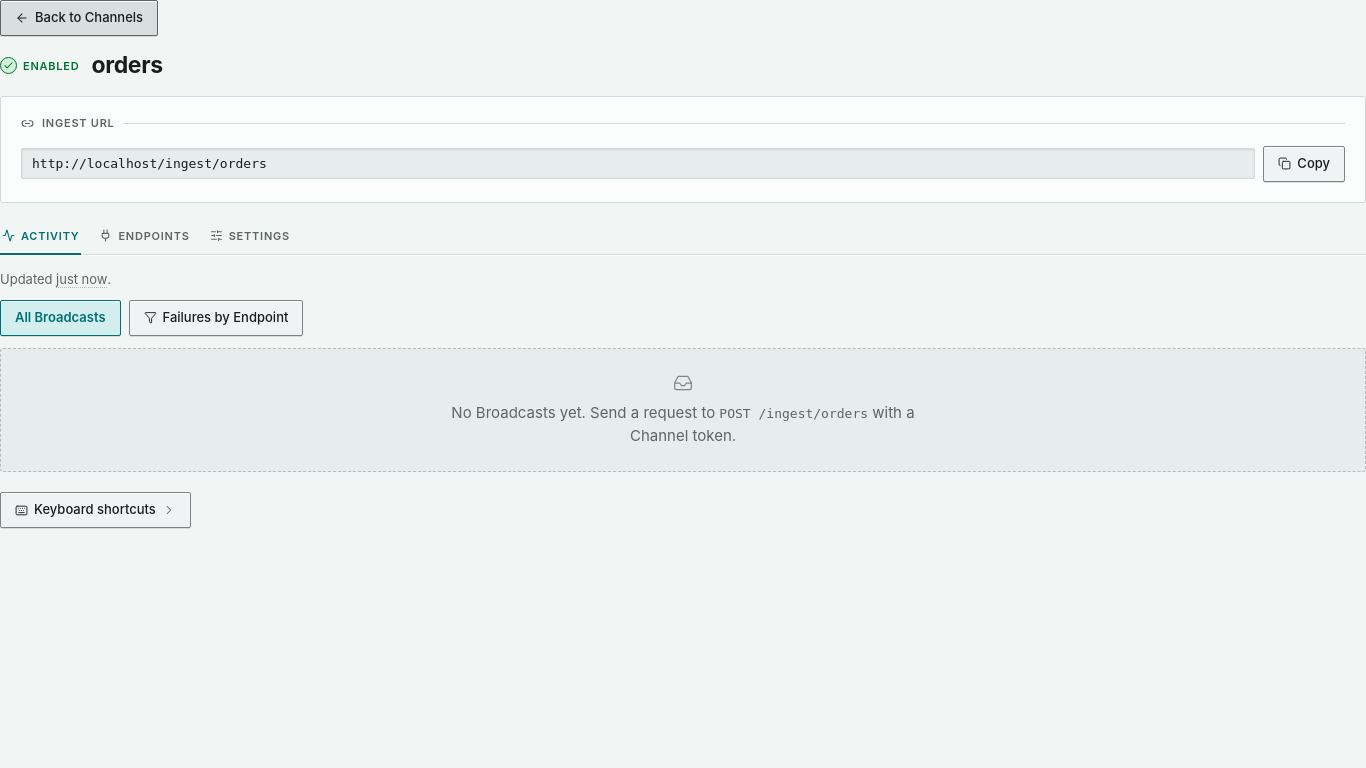
Ingest URL visibility (issue #47) › slug rename warning in Settings › shows the future URL and a breakage warning once the slug is edited
Click the link "Settings" at (250, 236), box [210, 229, 290, 243]
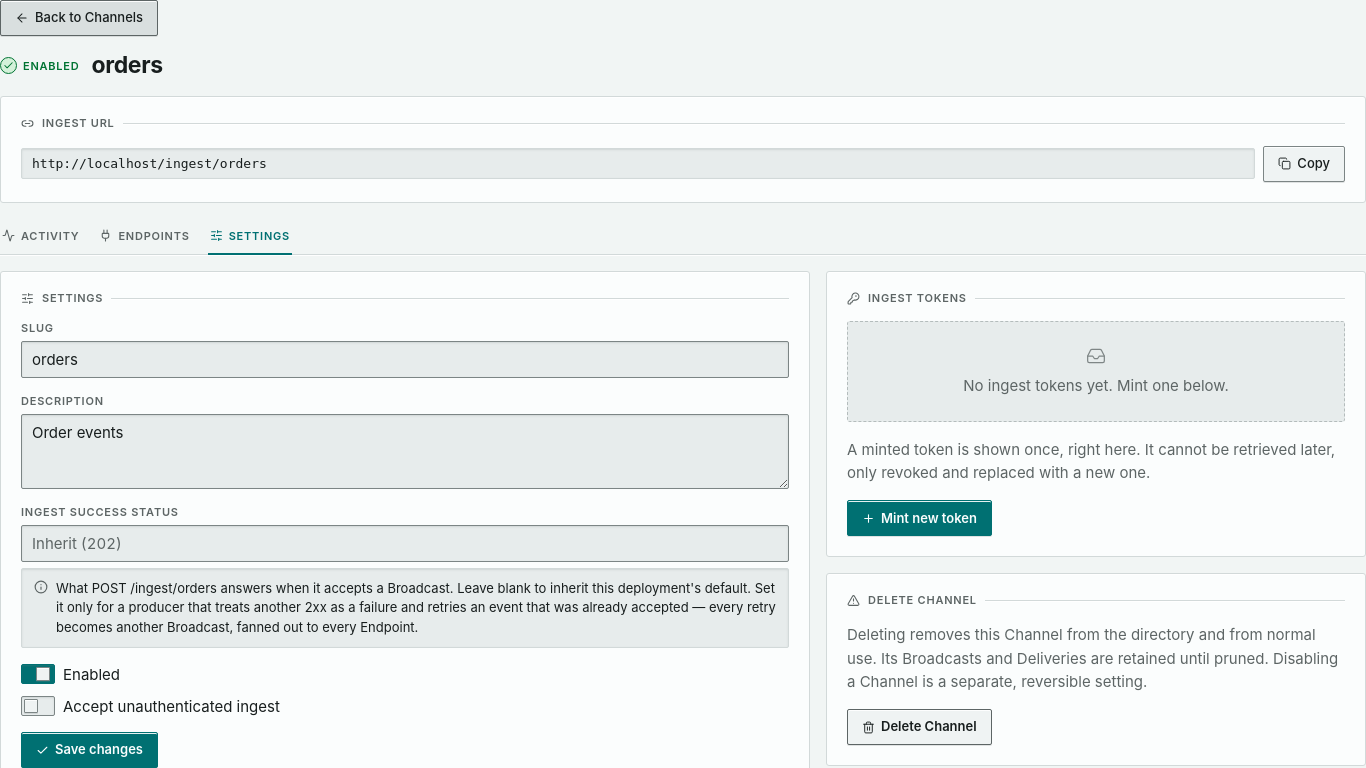
Replace the text in the field labelled "Slug" with "orders-v2" at (405, 359), box [21, 341, 789, 378]
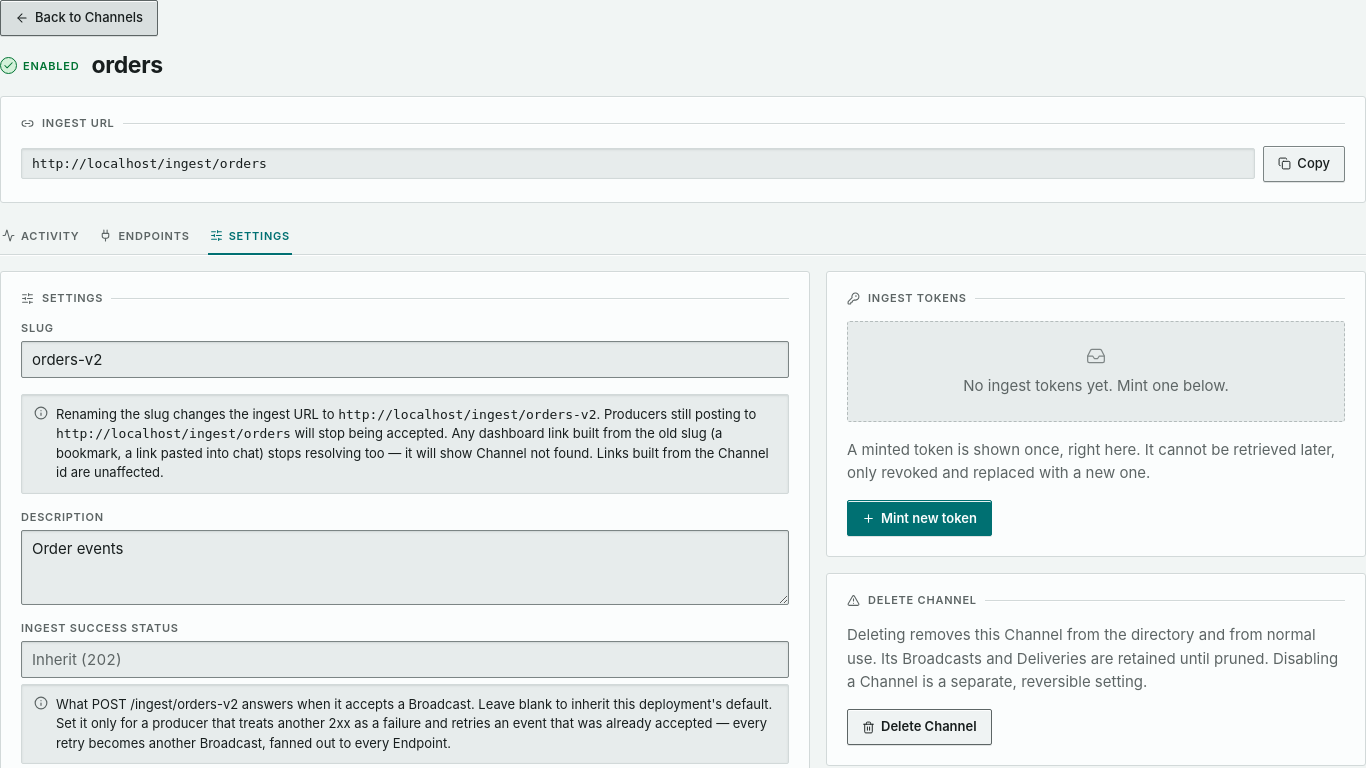
Expected: the text "Renaming the slug changes the ingest URL" shows "stop being accepted", [291, 425, 448, 441]
